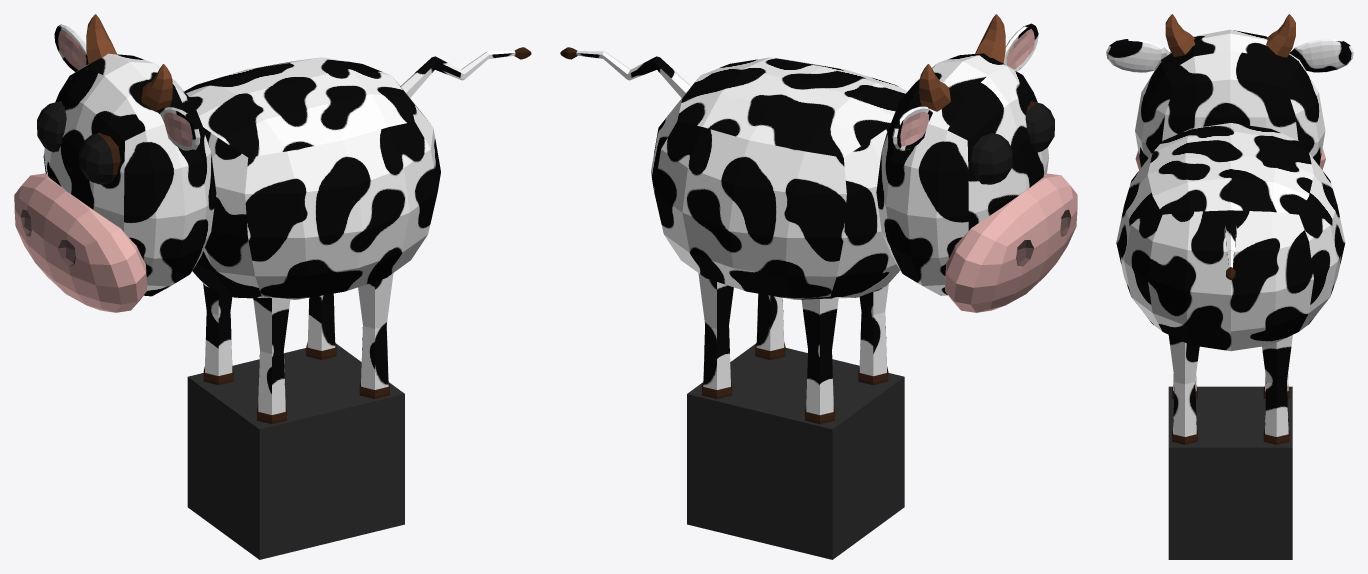
Rendered from Cow.fbx.
The picture shows the model from 3 angles, left to right: view 1: azimuth 30°, elevation 25°; view 2: azimuth 150°, elevation 25°; view 3: azimuth 270°, elevation 25°; orthographic projection. The views are drawn at different scales.
Visible parts, largest first — view 1: Cube; view 2: Cube; view 3: Cube.
Boxes of the visible parts, x1,y1,x2,y2 form: Cube: [14, 14, 531, 559]; Cube: [560, 14, 1077, 559]; Cube: [1106, 14, 1353, 559].
Bounding box in the file's own units: 1.17 × 1.19 × 0.5992.
